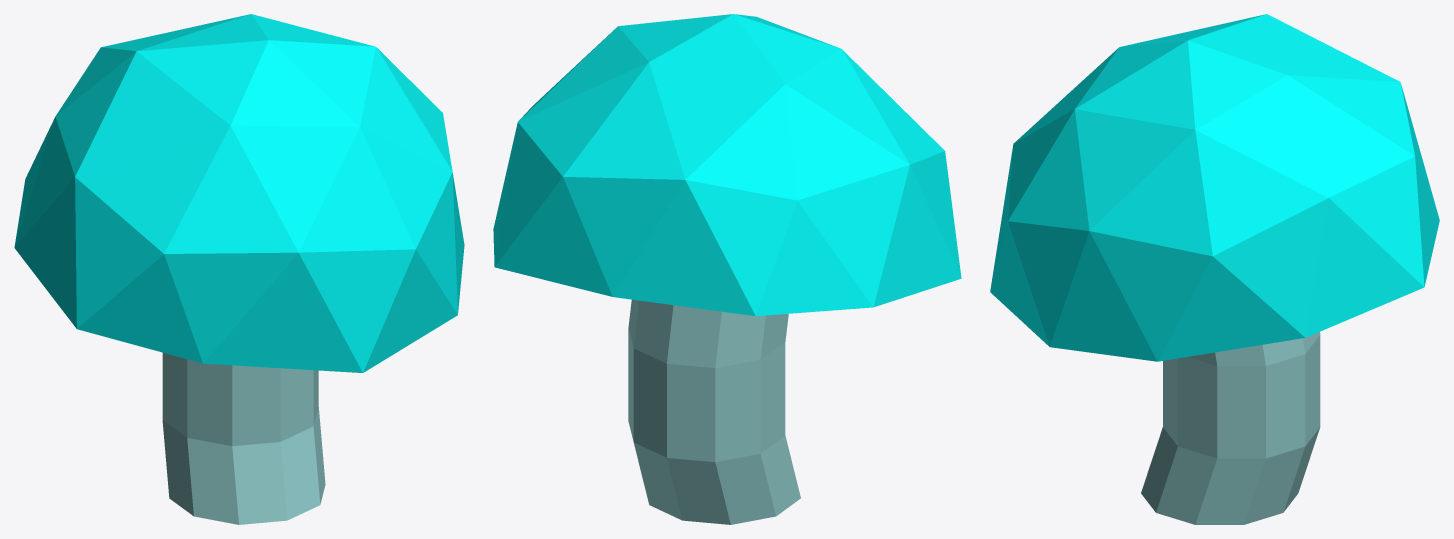
The model's file is Mushroom_2a.fbx.
The picture shows the model from 3 angles, left to right: view 1: azimuth 30°, elevation 25°; view 2: azimuth 150°, elevation 25°; view 3: azimuth 270°, elevation 25°; orthographic projection.
Visible parts, largest first — view 1: Mushroom_2a; view 2: Mushroom_2a; view 3: Mushroom_2a.
Part boxes in pixels (x1,y1,x2,y2): Mushroom_2a: (14,14,464,524); Mushroom_2a: (493,14,961,524); Mushroom_2a: (990,14,1439,524).
Bounding box in the file's own units: 46.44 × 51.7 × 46.27.
